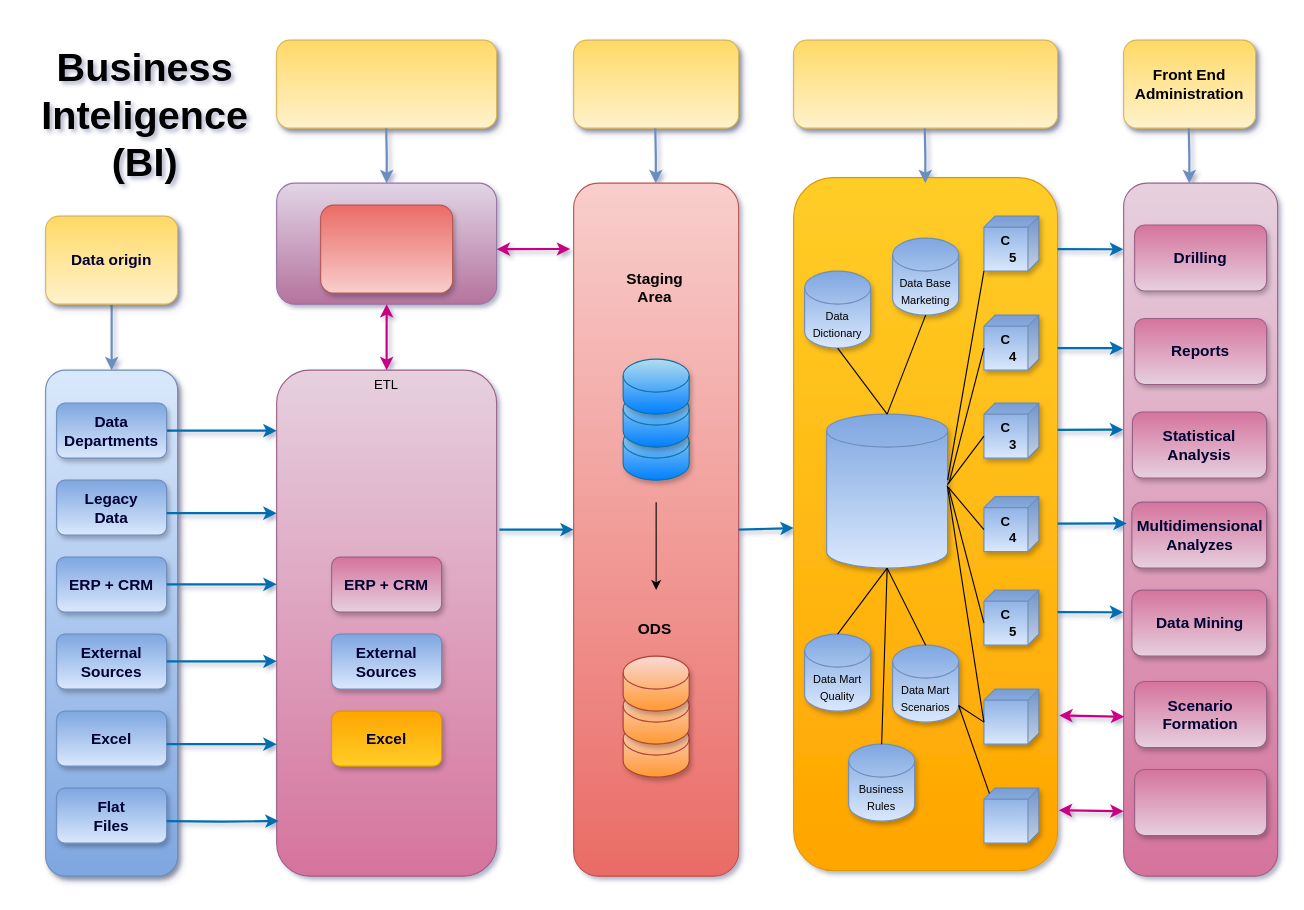
Image size: 1304x910. Some labels were removed from this diagram. Here are the shapes that lost their labels. From the top down, the centre of each, then its label:
At (387,85): "ETL administration and quality control".
At (656,85): "Staging Area Operation Data Store".
At (926,85): "Administration of Warehouse and Specific Components".
At (387,250): "Data Quality".
At (887,492): "Data Warehouse".
At (1012,718): "C 6".
At (1012,817): "C 7".
At (1201,803): "Quality".
